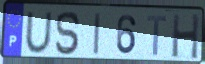6: (116, 14, 137, 56)
H: (171, 13, 201, 62)
I: (92, 11, 102, 57)
S: (54, 10, 82, 57)
T: (146, 14, 168, 58)
U: (24, 11, 54, 55)
